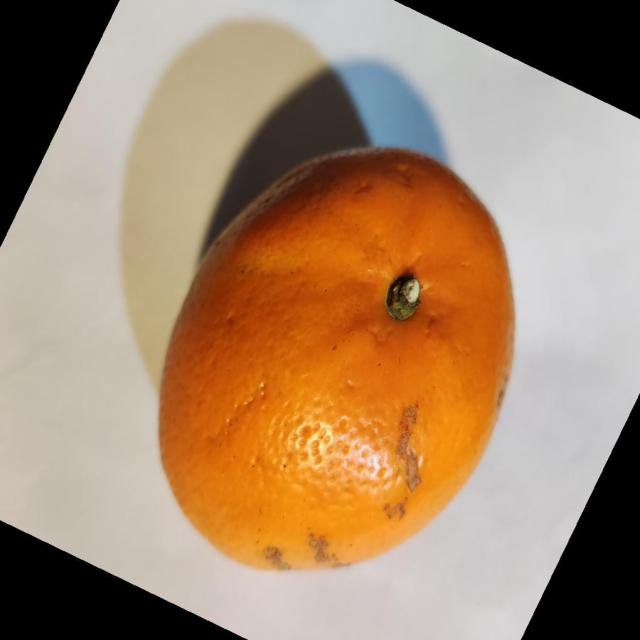fresh orange: (156, 144, 516, 572)
